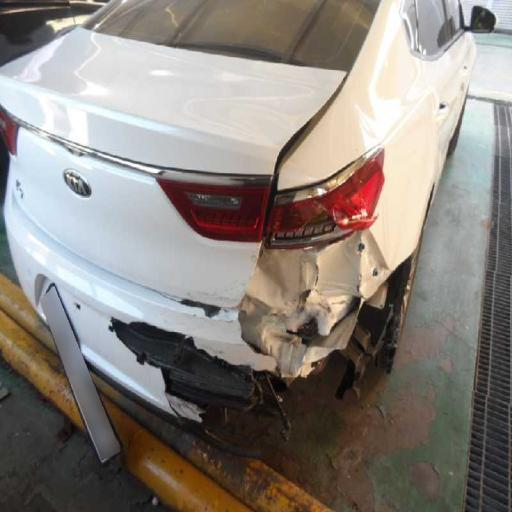broken: (106, 140, 434, 386)
